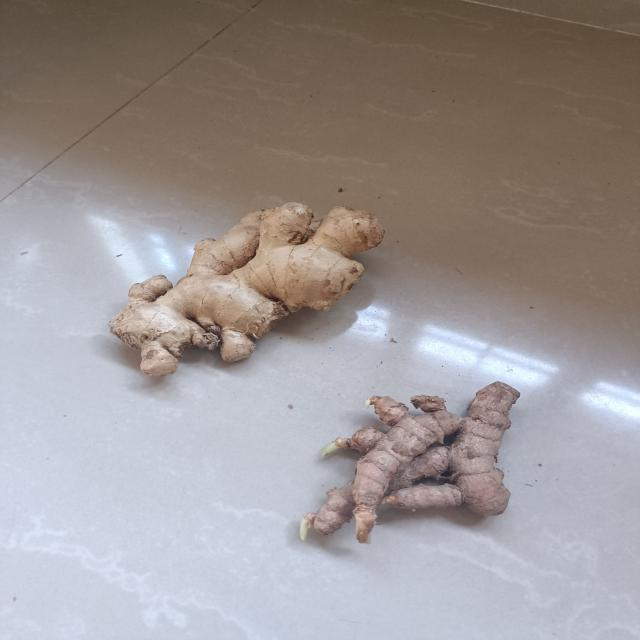ginger: (105, 196, 389, 380), (295, 375, 522, 554)
